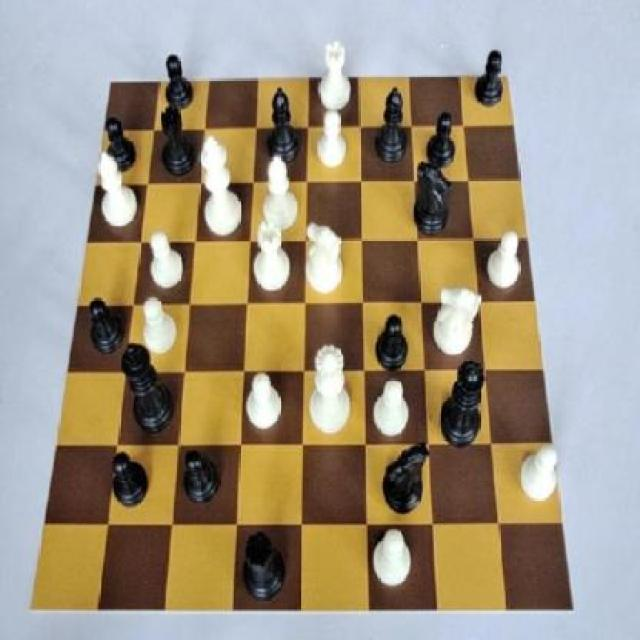bishop: (263, 80, 305, 175), (368, 89, 412, 172)
black-bishop: (118, 340, 181, 444)
black-king: (375, 442, 430, 522), (408, 157, 455, 246)
black-knight: (108, 442, 157, 516), (83, 287, 130, 358), (180, 443, 226, 515), (100, 117, 148, 181), (472, 38, 510, 118), (158, 51, 200, 120), (374, 303, 413, 374), (425, 108, 466, 174)
black-pawn: (437, 351, 493, 452)
black-queen: (234, 522, 291, 606), (157, 101, 201, 186)
black-rook: (95, 151, 141, 235), (257, 156, 301, 237)
white-bishop: (194, 131, 249, 241)
white-king: (431, 283, 482, 370), (304, 221, 350, 304)
white-knight: (512, 428, 561, 512), (366, 525, 419, 599), (241, 360, 287, 441), (368, 369, 415, 447), (478, 230, 524, 304), (138, 284, 180, 360), (309, 111, 353, 180), (143, 228, 185, 300)
white-pawn: (302, 340, 356, 439)
white-queen: (316, 31, 360, 117), (250, 222, 294, 304)
